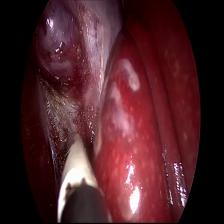Hook: (54, 125, 97, 215)
